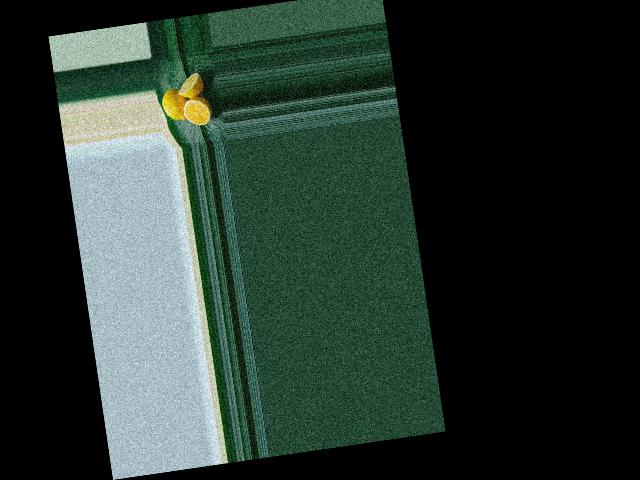lemon: (160, 86, 192, 127)
